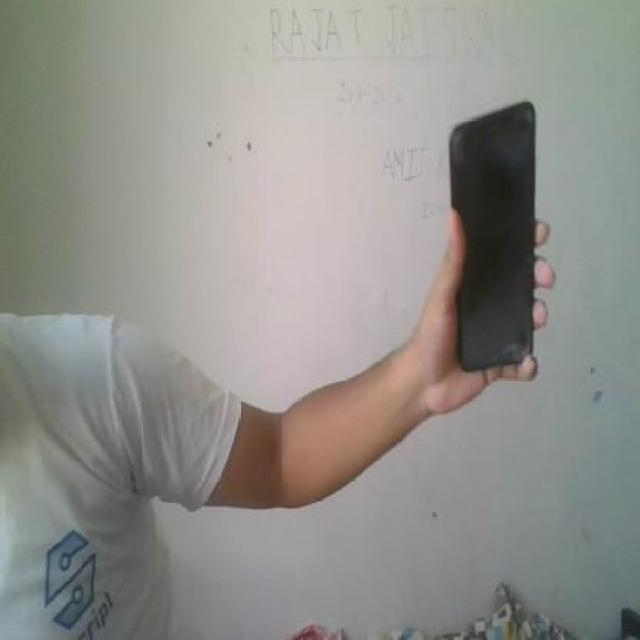Phone: (443, 98, 539, 374)
